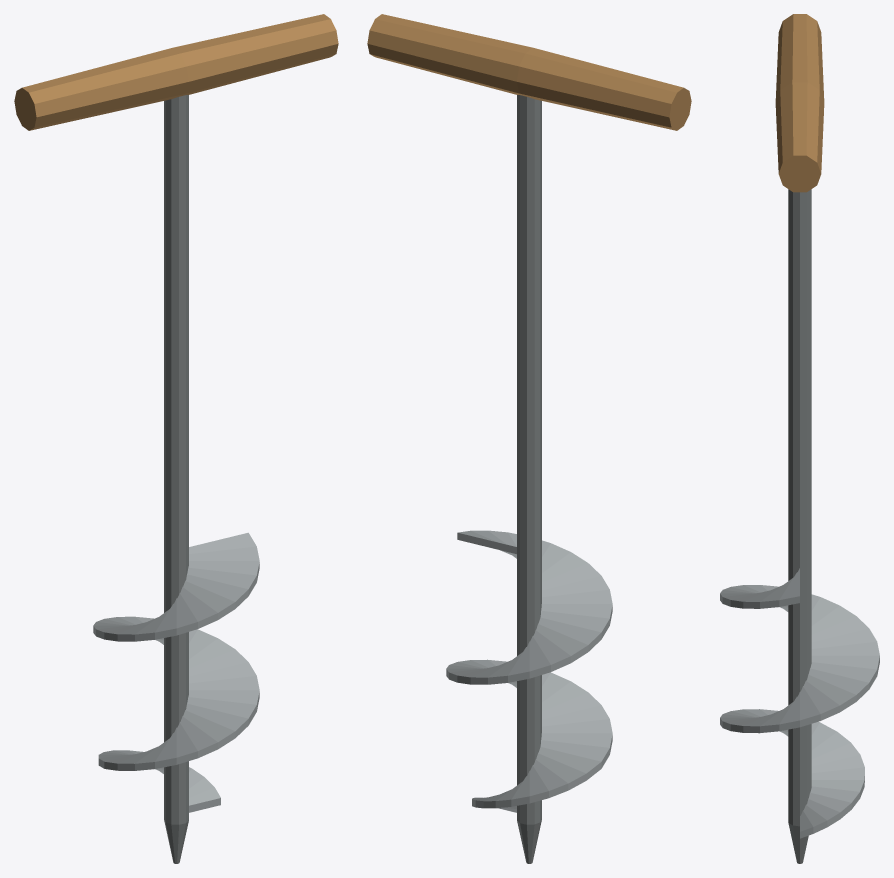
3 renders of one model, left to right at view 1: azimuth 30°, elevation 25°; view 2: azimuth 150°, elevation 25°; view 3: azimuth 270°, elevation 25°, orthographic. The views are drawn at different scales.
Parts seen in each view (by area): view 1: BroadContinuousTwoTurnHelicalFlight, ContinuousBluntCoreShaft, WholeTransverseWoodGrip; view 2: BroadContinuousTwoTurnHelicalFlight, ContinuousBluntCoreShaft, WholeTransverseWoodGrip; view 3: BroadContinuousTwoTurnHelicalFlight, ContinuousBluntCoreShaft, WholeTransverseWoodGrip.
Boxes of the visible parts, x1,y1,x2,y2 form: BroadContinuousTwoTurnHelicalFlight: (93, 532, 259, 812); ContinuousBluntCoreShaft: (164, 95, 188, 863); WholeTransverseWoodGrip: (14, 14, 338, 130); BroadContinuousTwoTurnHelicalFlight: (446, 530, 612, 812); ContinuousBluntCoreShaft: (517, 95, 541, 863); WholeTransverseWoodGrip: (367, 14, 691, 130); BroadContinuousTwoTurnHelicalFlight: (720, 568, 879, 838); ContinuousBluntCoreShaft: (788, 189, 811, 863); WholeTransverseWoodGrip: (775, 14, 824, 192).
Size of the model in its own units: 0.44 by 1.13 by 0.21.
